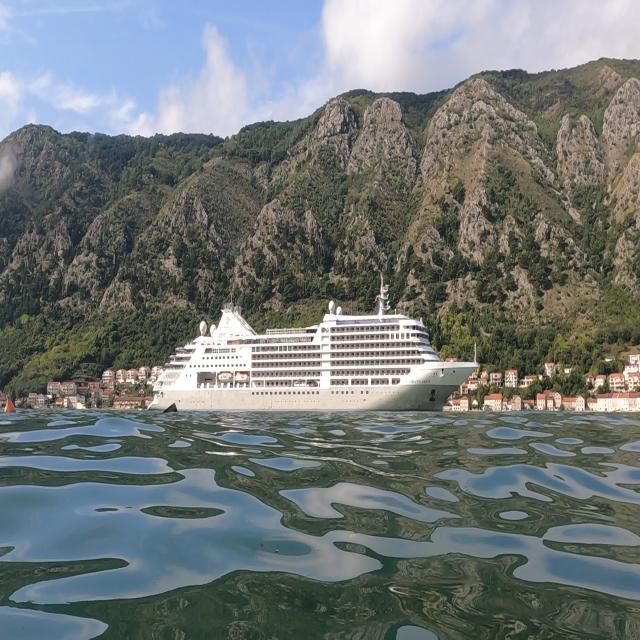boat: (146, 271, 480, 415)
buoy: (2, 387, 20, 418), (160, 400, 182, 419)
